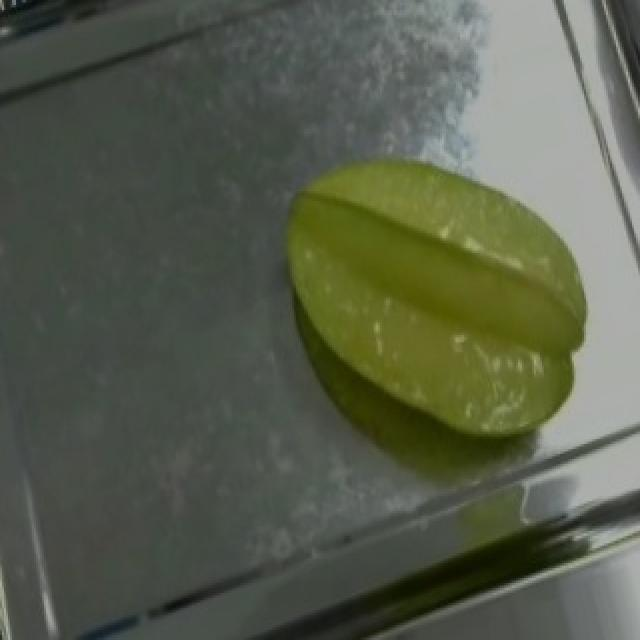fruit: (236, 112, 630, 486)
